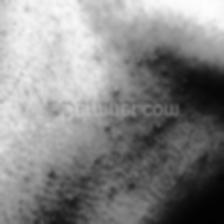Toxin: (0, 122, 214, 210), (0, 31, 194, 96)
